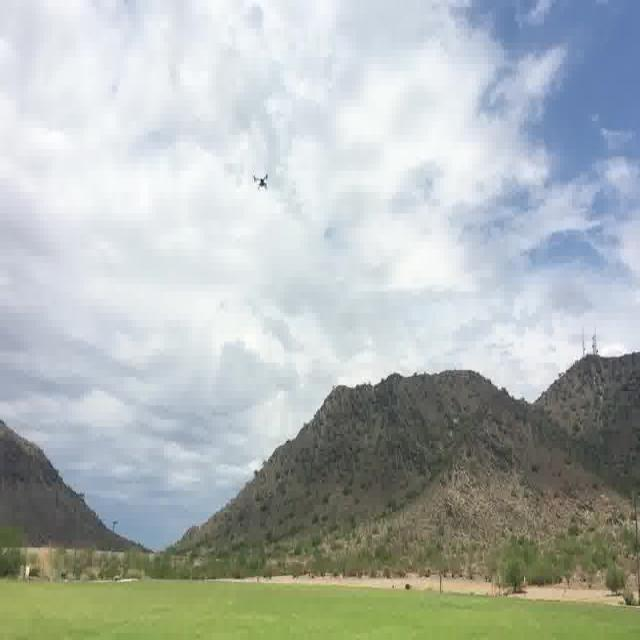Drone_FW: (252, 172, 268, 190)
